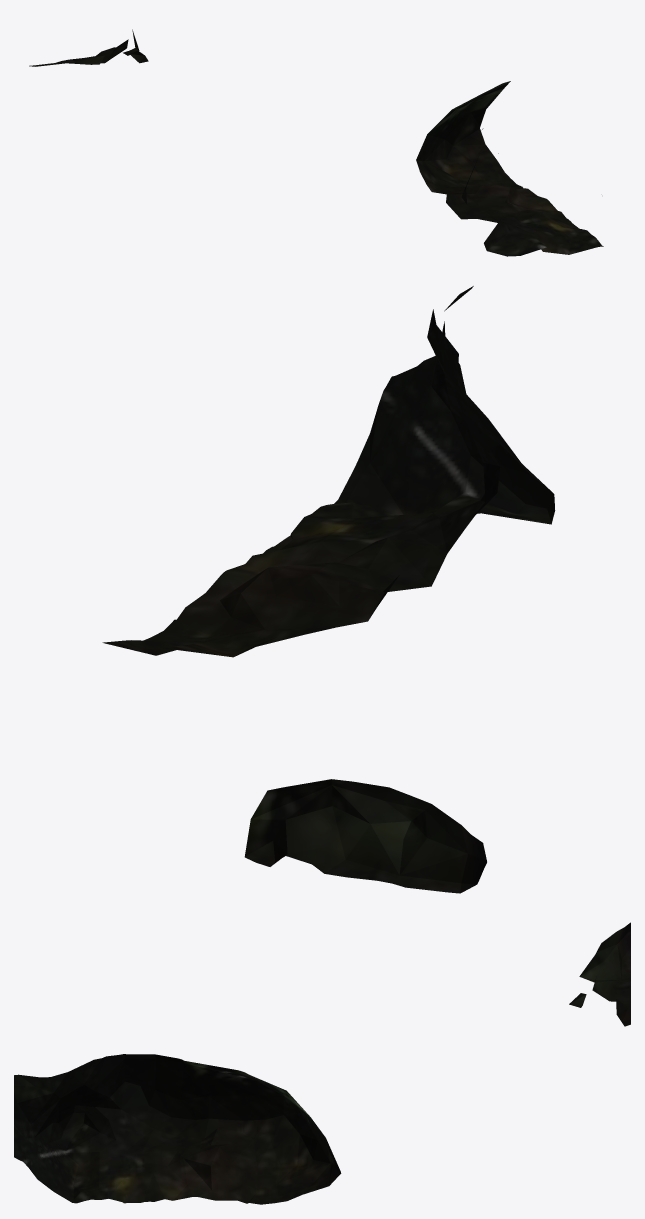
The picture shows the model from 3 angles, top to bottom: view 1: azimuth 30°, elevation 25°; view 2: azimuth 150°, elevation 25°; view 3: azimuth 270°, elevation 25°; orthographic projection. The views are drawn at different scales.
Bounding box in the file's own units: 2.26 × 0.6449 × 3.35.
1 material, 1 textured.
